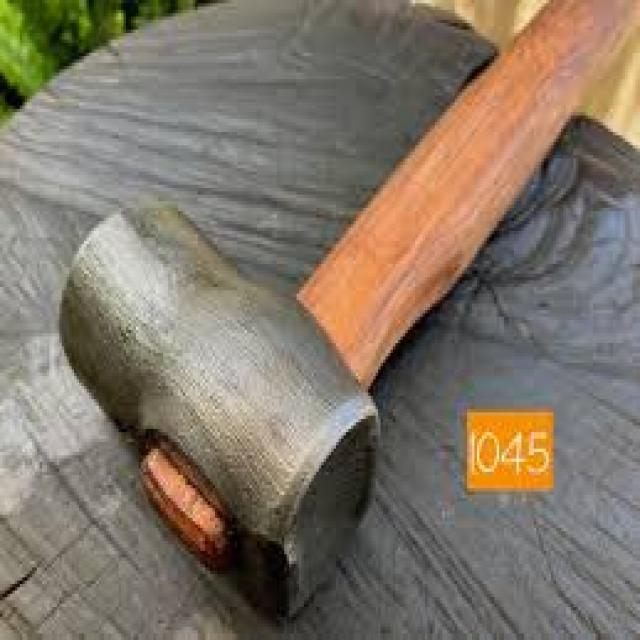hammer: (57, 0, 640, 633)
